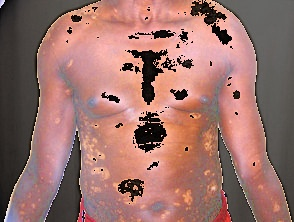vitiligo: (2, 0, 294, 222)
